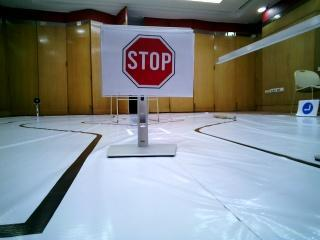stop: (105, 26, 191, 98)
